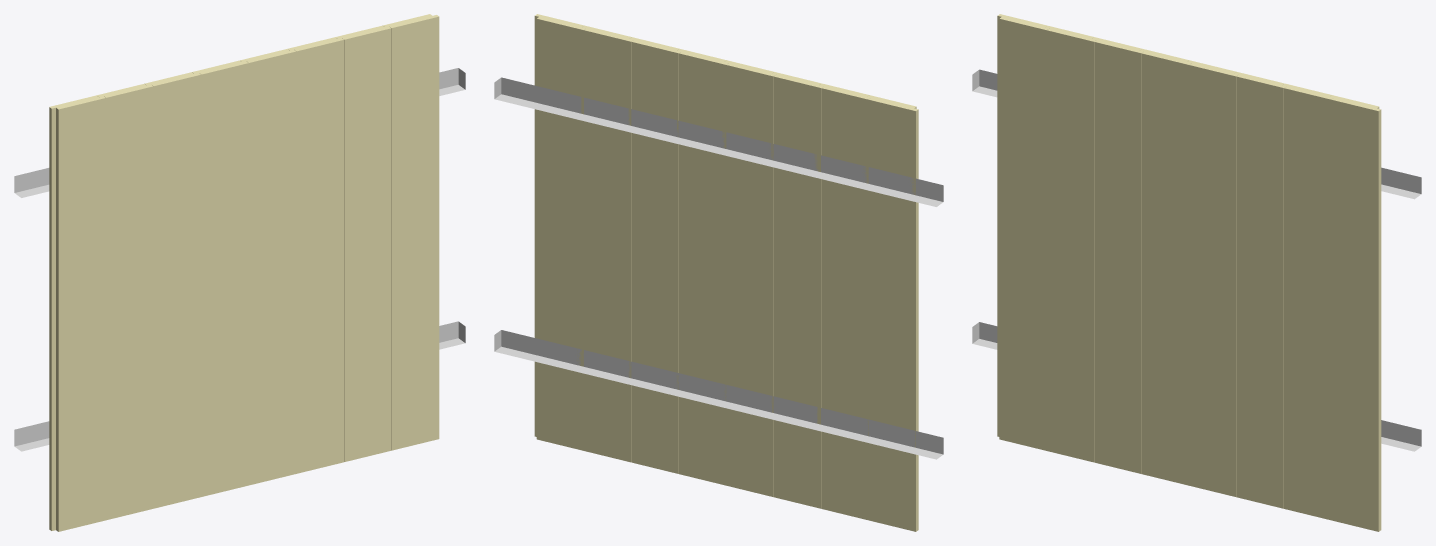
File: FVG.073.glb
3 views of the same model, side by side, from view 1: azimuth 30°, elevation 25°; view 2: azimuth 150°, elevation 25°; view 3: azimuth 330°, elevation 25° (orthographic).
Visible parts, largest first — view 1: IfcCovering/Falzbrett geschlossen.007, IfcCovering/Falzbrett geschlossen, IfcCovering/Falzbrett geschlossen.005, IfcCovering/Falzbrett geschlossen.002, IfcCovering/Falzbrett geschlossen.003, IfcCovering/Falzbrett geschlossen.004, IfcCovering/Falzbrett geschlossen.001, IfcCovering/Falzbrett geschlossen.006, IfcBuildingElementProxy/VerticalElementProxy, IfcBuildingElementProxy/VerticalElementProxy.001; view 2: IfcCovering/Falzbrett geschlossen.007, IfcCovering/Falzbrett geschlossen, IfcCovering/Falzbrett geschlossen.005, IfcCovering/Falzbrett geschlossen.001, IfcCovering/Falzbrett geschlossen.003, IfcCovering/Falzbrett geschlossen.006, IfcCovering/Falzbrett geschlossen.004, IfcCovering/Falzbrett geschlossen.002, IfcBuildingElementProxy/VerticalElementProxy, IfcBuildingElementProxy/VerticalElementProxy.001; view 3: IfcCovering/Falzbrett geschlossen, IfcCovering/Falzbrett geschlossen.007, IfcCovering/Falzbrett geschlossen.006, IfcCovering/Falzbrett geschlossen.001, IfcCovering/Falzbrett geschlossen.003, IfcCovering/Falzbrett geschlossen.004, IfcCovering/Falzbrett geschlossen.005, IfcCovering/Falzbrett geschlossen.002, IfcBuildingElementProxy/VerticalElementProxy.001, IfcBuildingElementProxy/VerticalElementProxy.
Part boxes in pixels (bbox=[...]): IfcCovering/Falzbrett geschlossen.007: bbox=[49, 95, 105, 531]; IfcCovering/Falzbrett geschlossen: bbox=[383, 14, 439, 450]; IfcCovering/Falzbrett geschlossen.005: bbox=[144, 72, 201, 508]; IfcCovering/Falzbrett geschlossen.002: bbox=[287, 37, 343, 473]; IfcCovering/Falzbrett geschlossen.003: bbox=[240, 49, 296, 485]; IfcCovering/Falzbrett geschlossen.004: bbox=[192, 60, 248, 496]; IfcCovering/Falzbrett geschlossen.001: bbox=[335, 25, 391, 461]; IfcCovering/Falzbrett geschlossen.006: bbox=[97, 84, 153, 520]; IfcBuildingElementProxy/VerticalElementProxy: bbox=[14, 321, 465, 451]; IfcBuildingElementProxy/VerticalElementProxy.001: bbox=[14, 68, 465, 197]; IfcCovering/Falzbrett geschlossen.007: bbox=[867, 95, 918, 531]; IfcCovering/Falzbrett geschlossen: bbox=[534, 14, 585, 450]; IfcCovering/Falzbrett geschlossen.005: bbox=[772, 72, 823, 508]; IfcCovering/Falzbrett geschlossen.001: bbox=[582, 25, 633, 462]; IfcCovering/Falzbrett geschlossen.003: bbox=[677, 48, 728, 485]; IfcCovering/Falzbrett geschlossen.006: bbox=[820, 83, 870, 520]; IfcCovering/Falzbrett geschlossen.004: bbox=[725, 60, 775, 497]; IfcCovering/Falzbrett geschlossen.002: bbox=[630, 37, 680, 473]; IfcBuildingElementProxy/VerticalElementProxy: bbox=[494, 330, 943, 459]; IfcBuildingElementProxy/VerticalElementProxy.001: bbox=[494, 77, 943, 206]; IfcCovering/Falzbrett geschlossen: bbox=[1330, 95, 1381, 531]; IfcCovering/Falzbrett geschlossen.007: bbox=[997, 14, 1048, 450]; IfcCovering/Falzbrett geschlossen.006: bbox=[1045, 25, 1096, 462]; IfcCovering/Falzbrett geschlossen.001: bbox=[1282, 83, 1333, 520]; IfcCovering/Falzbrett geschlossen.003: bbox=[1187, 60, 1238, 497]; IfcCovering/Falzbrett geschlossen.004: bbox=[1140, 48, 1190, 485]; IfcCovering/Falzbrett geschlossen.005: bbox=[1093, 37, 1143, 473]; IfcCovering/Falzbrett geschlossen.002: bbox=[1235, 72, 1285, 508]; IfcBuildingElementProxy/VerticalElementProxy.001: bbox=[972, 69, 1421, 199]; IfcBuildingElementProxy/VerticalElementProxy: bbox=[972, 322, 1421, 451].
Bounding box in the file's own units: 1.1 × 1 × 0.0514.
